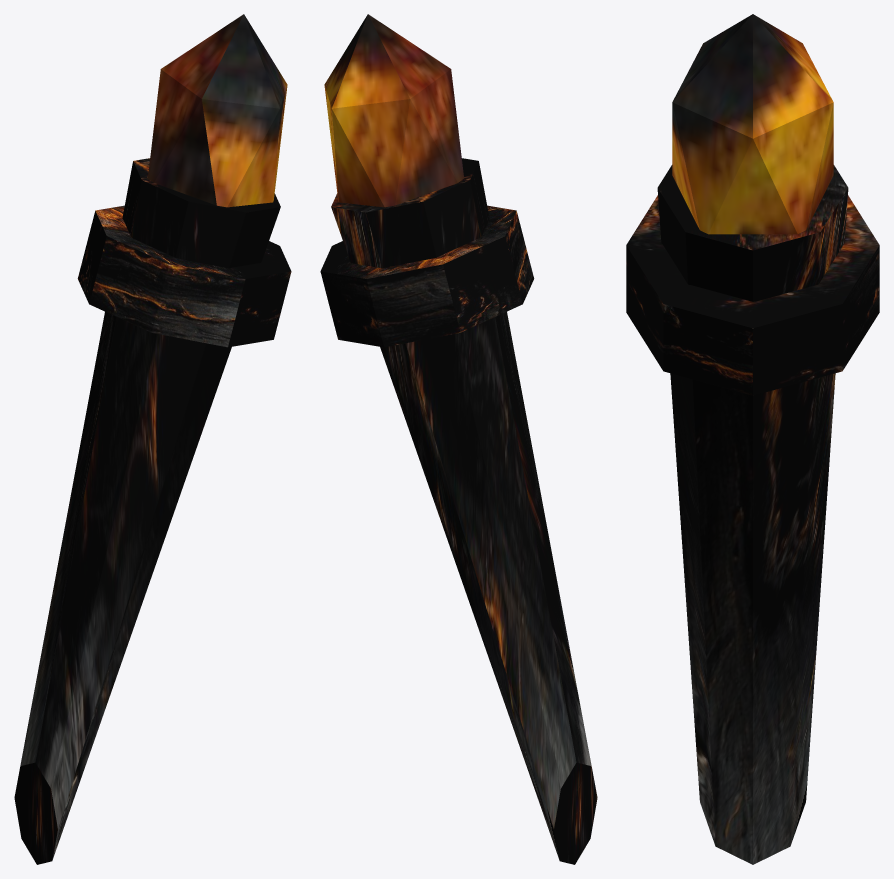
The model's file is torch.obj.
3 views of the same model, side by side, from view 1: azimuth 30°, elevation 25°; view 2: azimuth 150°, elevation 25°; view 3: azimuth 270°, elevation 25° (orthographic). The views are drawn at different scales.
Parts seen in each view (by area): view 1: Cylinder, Icosphere, Cylinder.001; view 2: Cylinder, Icosphere, Cylinder.001; view 3: Cylinder, Icosphere, Cylinder.001.
Boxes of the visible parts, box(x1,y1,x2,y2) form: Cylinder: box(14, 158, 280, 864); Icosphere: box(148, 14, 287, 207); Cylinder.001: box(77, 205, 291, 347); Cylinder: box(331, 158, 597, 864); Icosphere: box(324, 14, 463, 207); Cylinder.001: box(320, 205, 534, 347); Cylinder: box(657, 165, 848, 864); Icosphere: box(672, 14, 833, 234); Cylinder.001: box(626, 195, 879, 395).
Size of the model in its own units: 0.7147 by 2.17 by 0.5113.
1 material, 1 textured.
